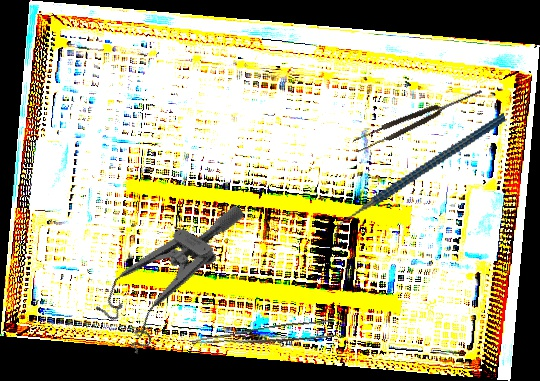Chopper: (314, 112, 525, 244)
Speculum: (86, 171, 246, 364)
Tissue Forceps: (351, 84, 486, 154), (191, 315, 338, 361)
